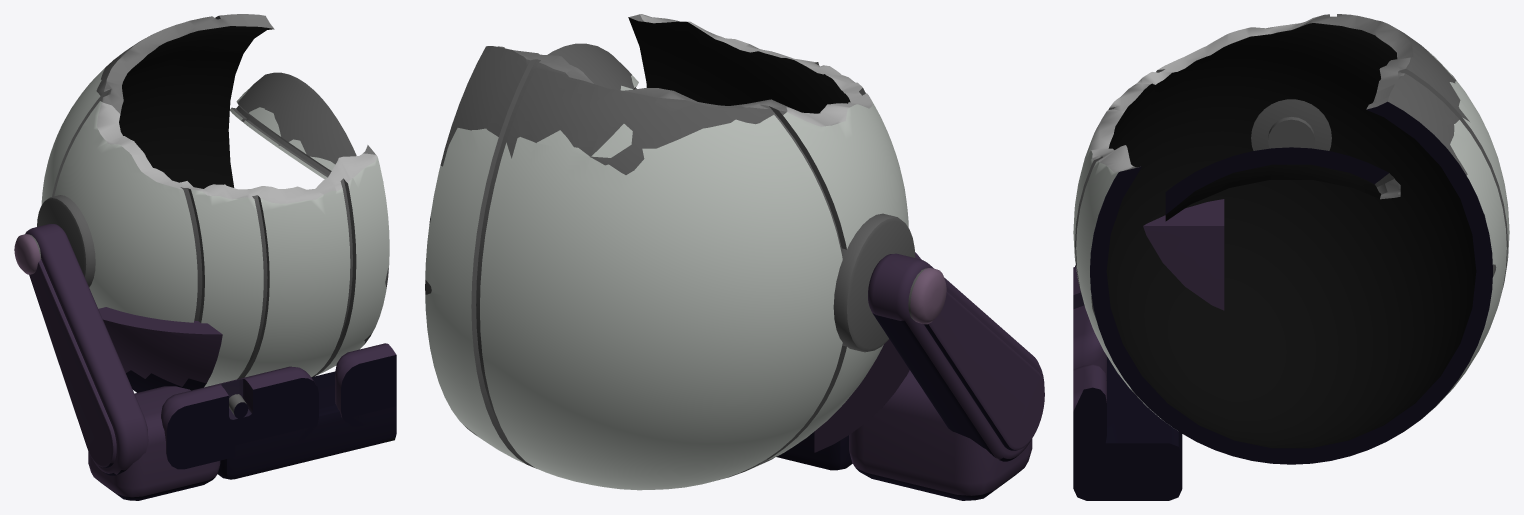
Rendered from ice_globe_tl_wreck.glb.
The picture shows the model from 3 angles, left to right: view 1: azimuth 30°, elevation 25°; view 2: azimuth 150°, elevation 25°; view 3: azimuth 270°, elevation 25°; orthographic projection. The views are drawn at different scales.
Parts seen in each view (by area): view 1: sphere.001, thigh.001, arm.001, shell_piece.001, cradle.001, pelvis.001, arm_panel.001, hip.001, thigh_r.001, hub.001, arm_cap.001; view 2: sphere.001, hip.001, arm.001, arm_panel.001, hub.001, cradle.001, shell_piece.001, arm_cap.001, pelvis.001; view 3: sphere.001, pelvis.001, shell_piece.001, cradle.001, thigh_r.001, hub.001, thigh.001, axle.001.
Boxes of the visible parts, box(x1,y1,x2,y2) form: sphere.001: box(41, 14, 389, 387); thigh.001: box(161, 366, 318, 469); arm.001: box(25, 224, 148, 475); shell_piece.001: box(229, 72, 356, 179); cradle.001: box(98, 307, 222, 392); pelvis.001: box(218, 371, 396, 479); arm_panel.001: box(29, 259, 116, 467); hip.001: box(88, 386, 220, 500); thigh_r.001: box(335, 343, 396, 426); hub.001: box(37, 195, 95, 287); arm_cap.001: box(14, 234, 40, 274); sphere.001: box(425, 14, 908, 490); hip.001: box(849, 370, 1032, 500); arm.001: box(868, 253, 1044, 461); arm_panel.001: box(924, 291, 1044, 450); hub.001: box(833, 213, 915, 352); cradle.001: box(814, 252, 921, 452); shell_piece.001: box(547, 43, 638, 90); arm_cap.001: box(910, 268, 946, 324); pelvis.001: box(776, 432, 852, 470); sphere.001: box(1073, 14, 1509, 464); pelvis.001: box(1073, 356, 1182, 500); shell_piece.001: box(1165, 147, 1400, 221); cradle.001: box(1143, 199, 1224, 310); thigh_r.001: box(1073, 364, 1106, 468); hub.001: box(1251, 99, 1331, 150); thigh.001: box(1073, 266, 1106, 379); axle.001: box(1268, 117, 1314, 148).
Bounding box in the file's own units: 23.5 × 26.87 × 26.
